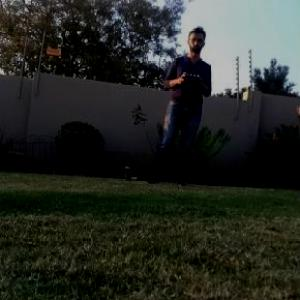follow: (140, 21, 214, 189)
